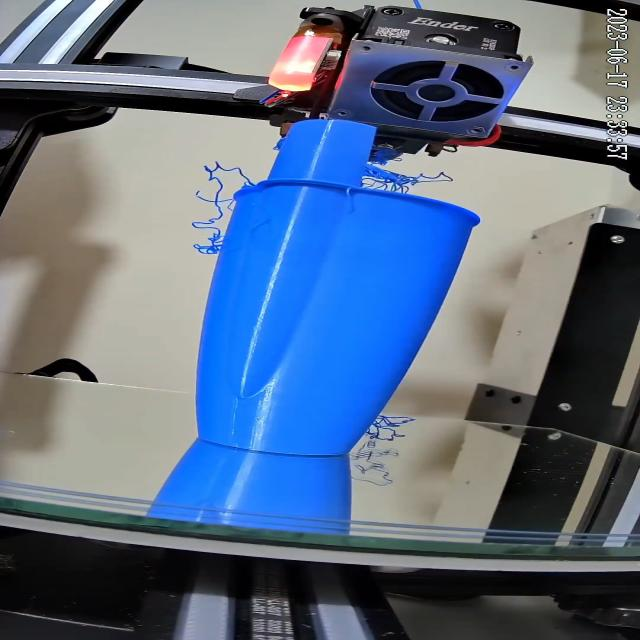spaghetti: (167, 157, 255, 253), (353, 145, 474, 203), (366, 406, 416, 452)
